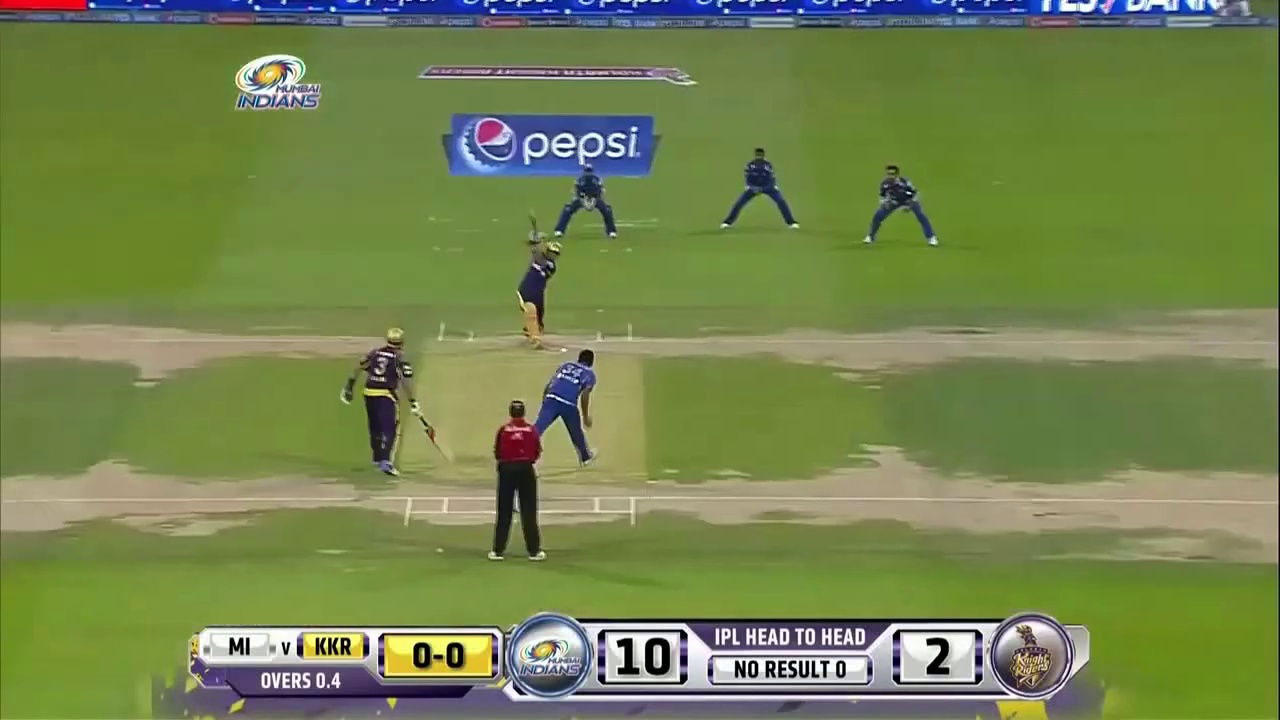bat: (418, 417, 455, 464)
